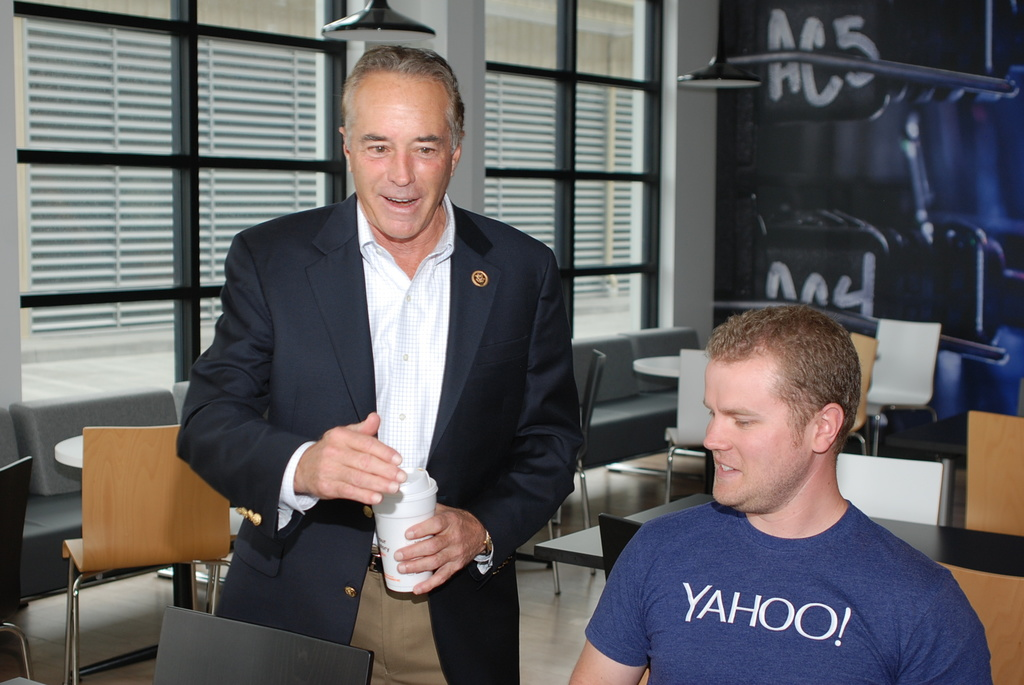Chair: (24, 404, 237, 676), (543, 348, 612, 596), (868, 327, 953, 453), (0, 450, 37, 679), (667, 345, 717, 504), (849, 331, 878, 454)
